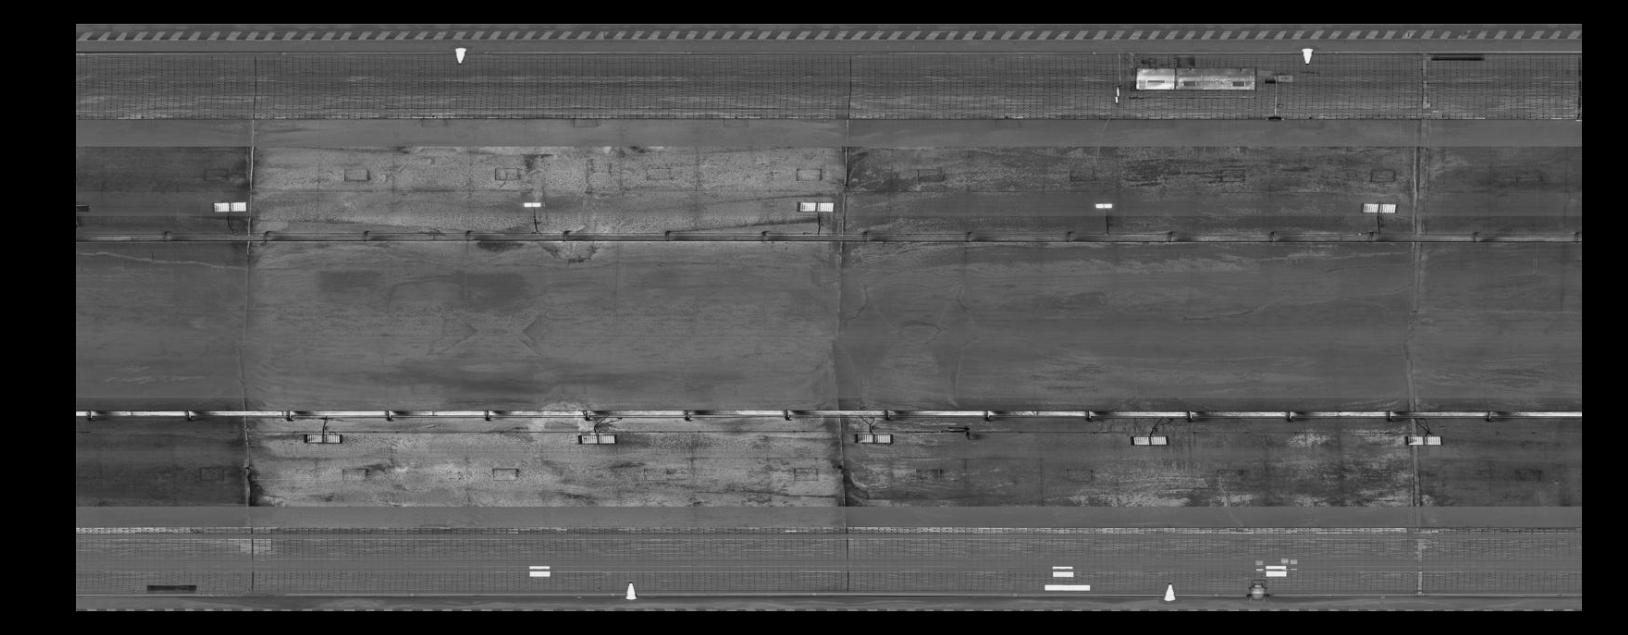light: (298, 429, 346, 447), (571, 431, 619, 449), (1125, 432, 1173, 450), (849, 429, 896, 447), (1401, 432, 1445, 448), (1356, 200, 1400, 216), (207, 197, 249, 213), (795, 198, 837, 214), (1089, 201, 1119, 210), (518, 200, 547, 209)
